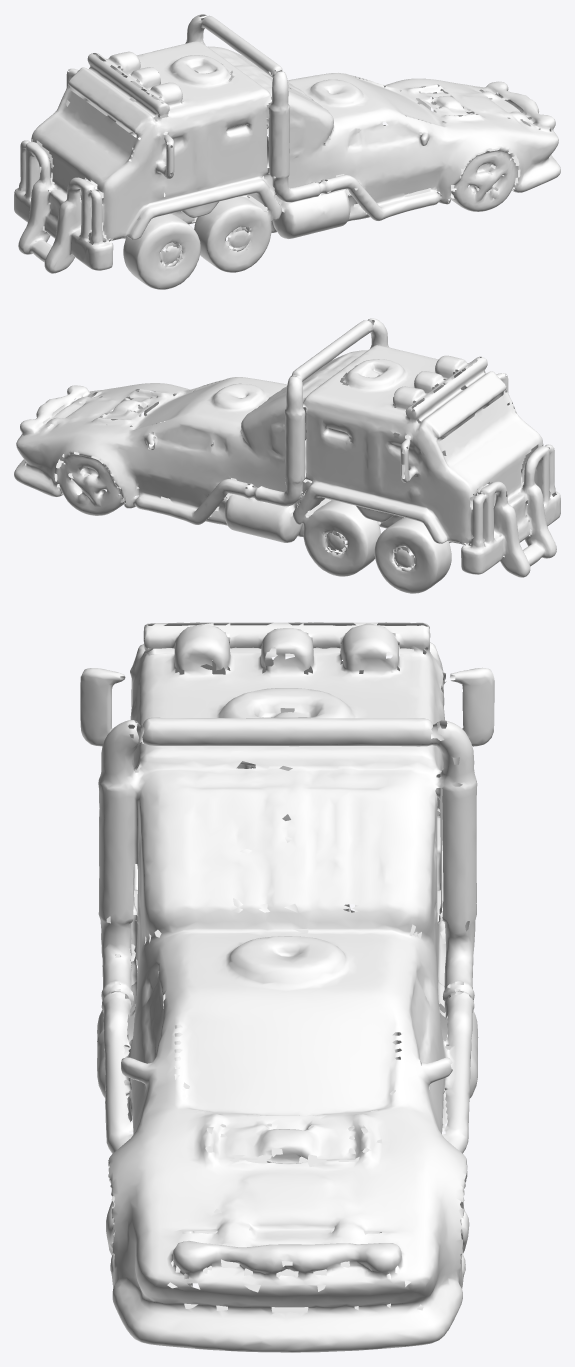
File: blackjack.glb
3 renders of one model, top to bottom at view 1: azimuth 30°, elevation 25°; view 2: azimuth 150°, elevation 25°; view 3: azimuth 270°, elevation 25°, orthographic. The views are drawn at different scales.
Size of the model in its own units: 1.96 by 0.7075 by 0.7024.
1 material, 1 textured.
